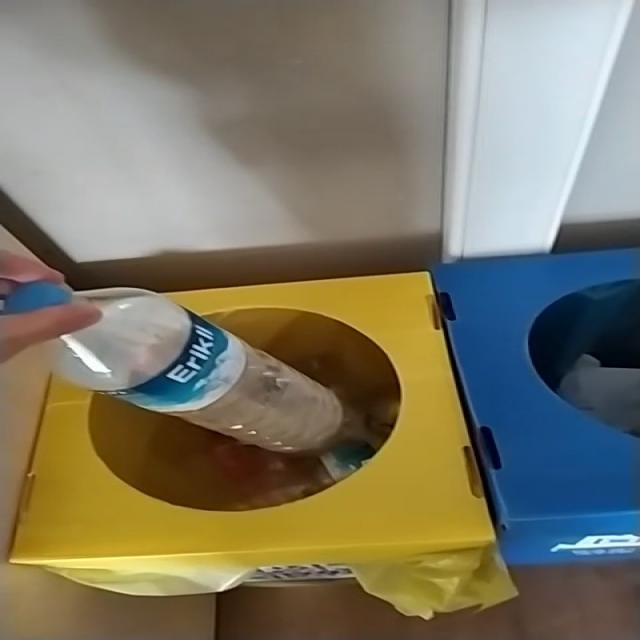Plastic: (4, 282, 365, 454)
